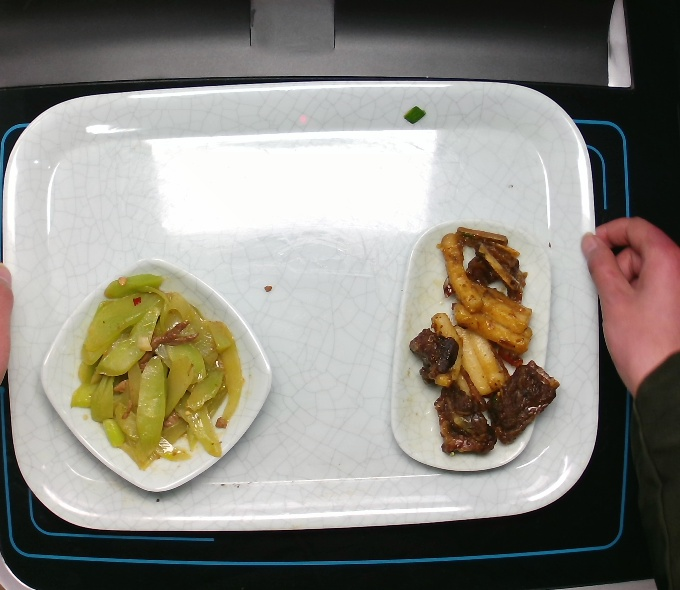wcq-NianGaoZaiPai: (399, 218, 561, 460)
wcq-WoSun: (72, 271, 248, 473)
